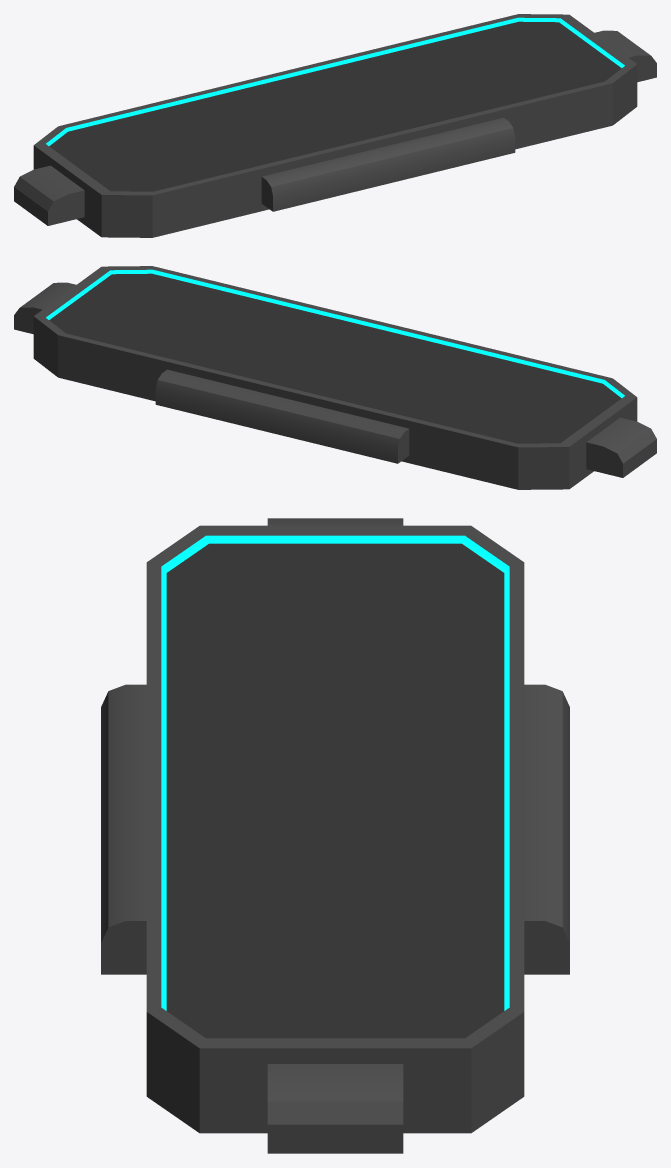
File: SM_Platform_B.fbx
3 views of the same model, one above another, from view 1: azimuth 30°, elevation 25°; view 2: azimuth 150°, elevation 25°; view 3: azimuth 270°, elevation 25° (orthographic). The views are drawn at different scales.
Parts seen in each view (by area): view 1: SM_Platform_B; view 2: SM_Platform_B; view 3: SM_Platform_B.
Boxes of the visible parts, <box> form: SM_Platform_B: <box>14,14,656,237</box>; SM_Platform_B: <box>14,266,656,489</box>; SM_Platform_B: <box>101,518,569,1153</box>.
Size of the model in its own units: 300 by 20 by 100.
